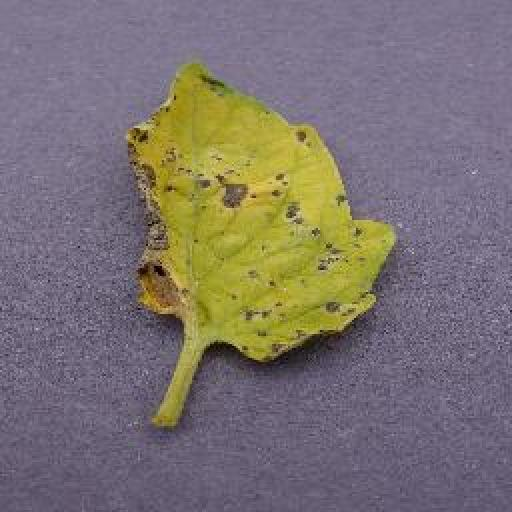disease_tomato: (124, 55, 402, 364)
